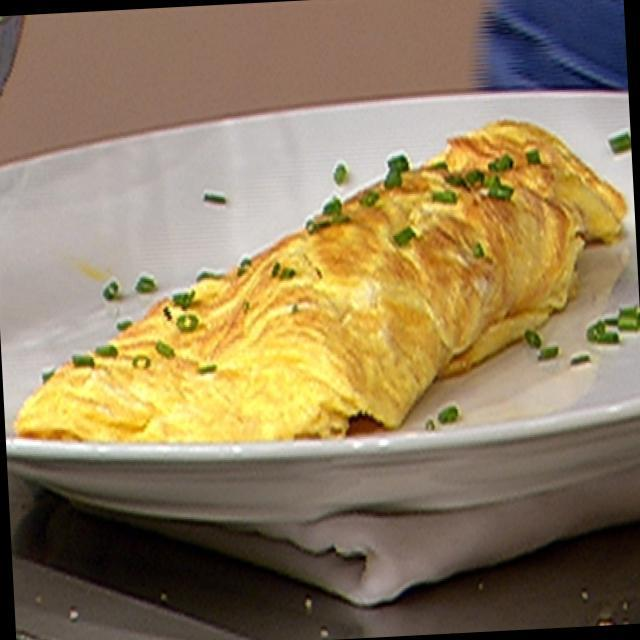Omelet: (1, 112, 640, 460)
